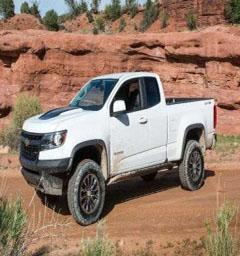car: (14, 67, 228, 222)
